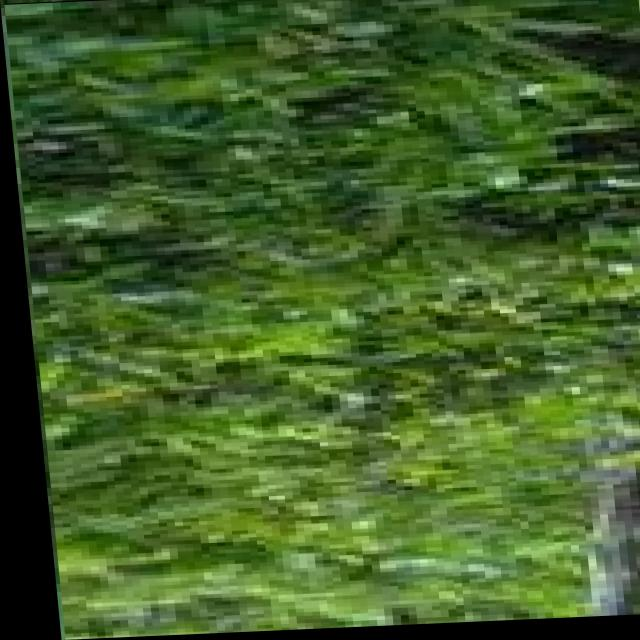nofire: (2, 0, 640, 640)
